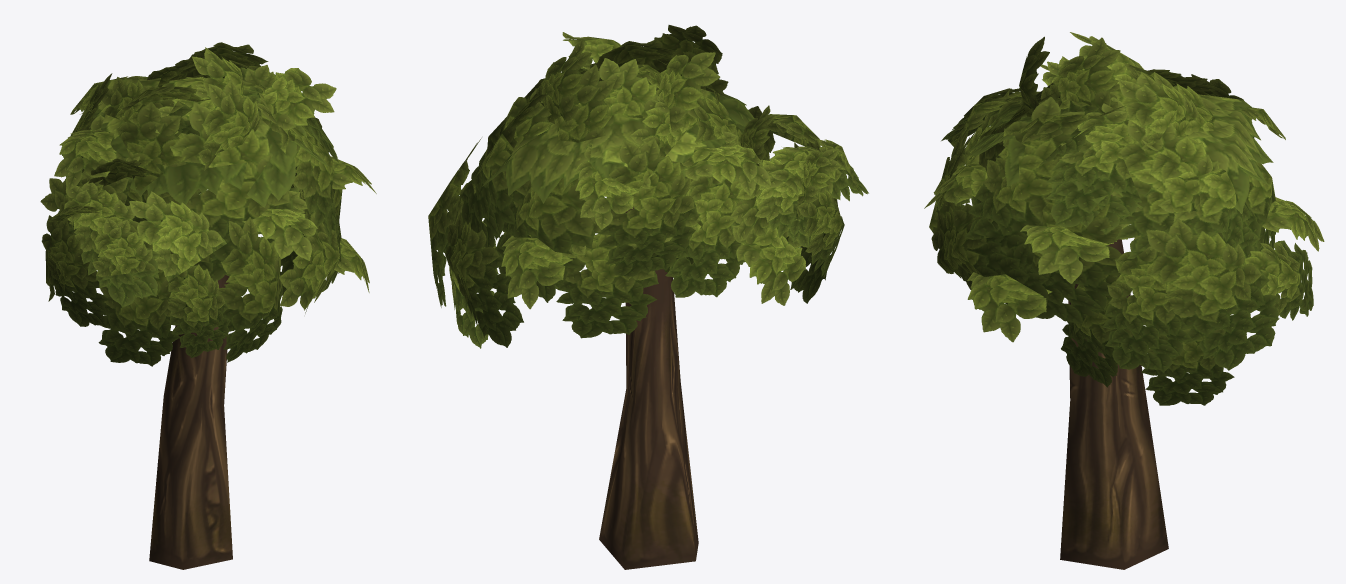
Rendered from tree_leafy_02.fbx.
The picture shows the model from 3 angles, left to right: view 1: azimuth 30°, elevation 25°; view 2: azimuth 150°, elevation 25°; view 3: azimuth 270°, elevation 25°; orthographic projection. The views are drawn at different scales.
Parts seen in each view (by area): view 1: tree_leafy_02; view 2: tree_leafy_02; view 3: tree_leafy_02.
Part boxes in pixels (x1=…): tree_leafy_02: x1=40, y1=42, x2=376, y2=569; tree_leafy_02: x1=428, y1=25, x2=868, y2=569; tree_leafy_02: x1=924, y1=32, x2=1324, y2=569.
Bounding box in the file's own units: 508 × 666 × 489.
